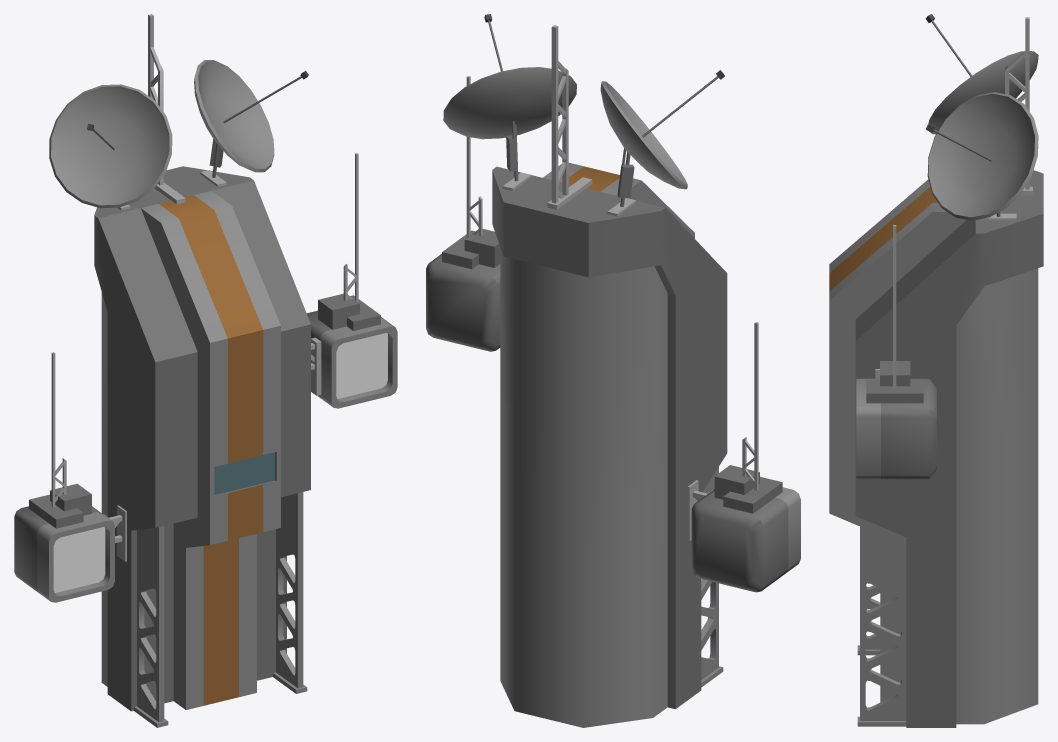
The model's file is mainframe.glb.
3 views of the same model, side by side, from view 1: azimuth 30°, elevation 25°; view 2: azimuth 150°, elevation 25°; view 3: azimuth 270°, elevation 25° (orthographic). The views are drawn at different scales.
Parts seen in each view (by area): view 1: Computer_Large; view 2: Computer_Large; view 3: Computer_Large.
Part boxes in pixels (x1=…): Computer_Large: x1=14, y1=14, x2=397, y2=727; Computer_Large: x1=426, y1=14, x2=800, y2=727; Computer_Large: x1=829, y1=14, x2=1043, y2=727.
Bounding box in the file's own units: 1.29 × 2.38 × 0.6898.
